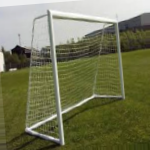goals: (23, 8, 127, 145)
